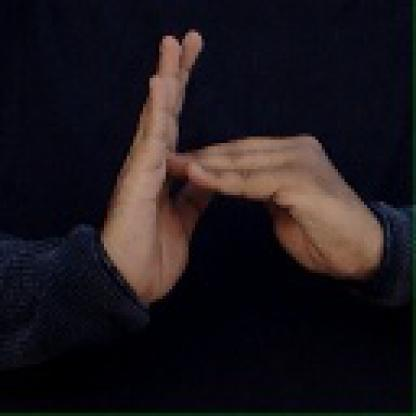Z: (106, 24, 357, 312)
